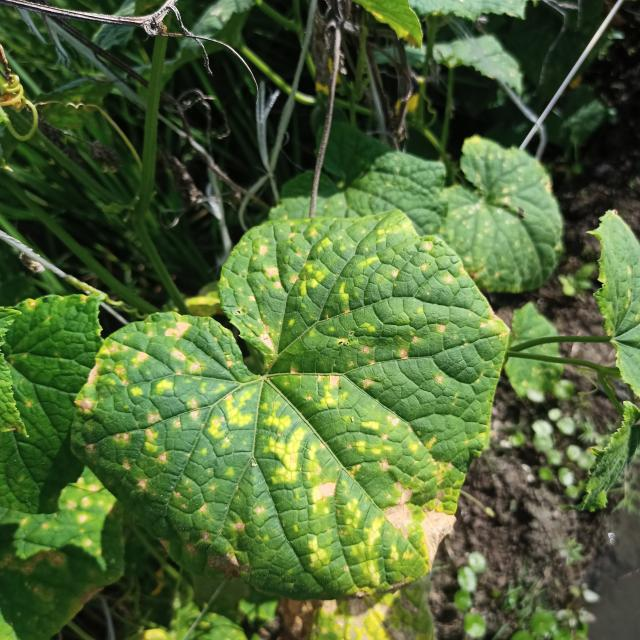disease_cucumber: (78, 226, 490, 594)
